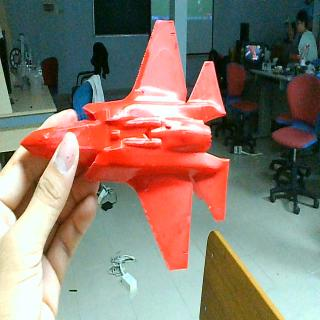Jet: (19, 17, 230, 272)
